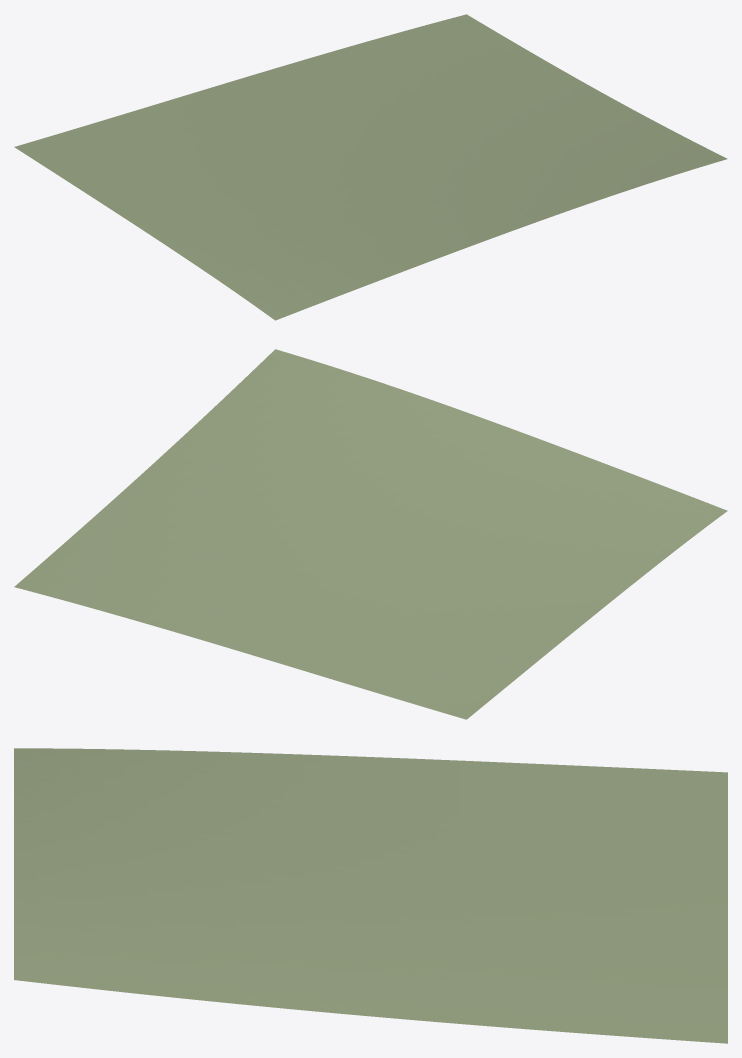
The model's file is expanse-16-15.glb.
The picture shows the model from 3 angles, top to bottom: view 1: azimuth 30°, elevation 25°; view 2: azimuth 150°, elevation 25°; view 3: azimuth 270°, elevation 25°; orthographic projection. The views are drawn at different scales.
Parts seen in each view (by area): view 1: expanse-16-15; view 2: expanse-16-15; view 3: expanse-16-15.
Boxes of the visible parts, box(x1,y1,x2,y2) form: expanse-16-15: box(14, 14, 727, 320); expanse-16-15: box(14, 349, 727, 719); expanse-16-15: box(14, 748, 727, 1043).
Bounding box in the file's own units: 256 × 37.23 × 256.
